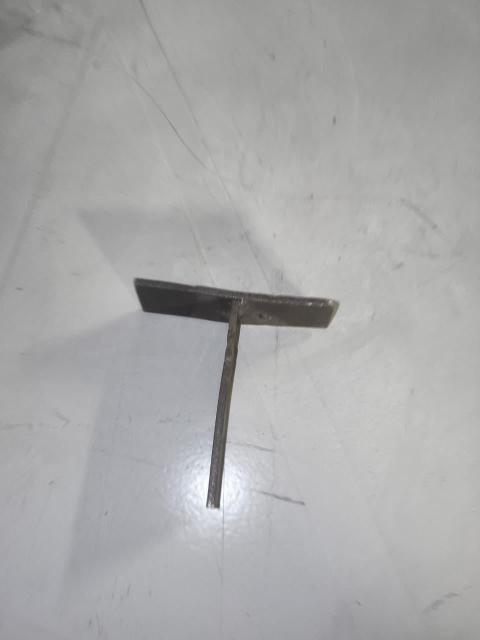Metal: (123, 273, 345, 508)
